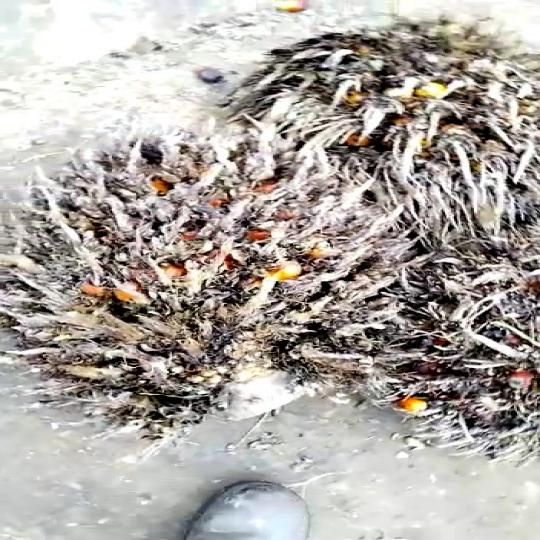terlalu masak: (0, 126, 397, 434), (201, 4, 540, 170)
